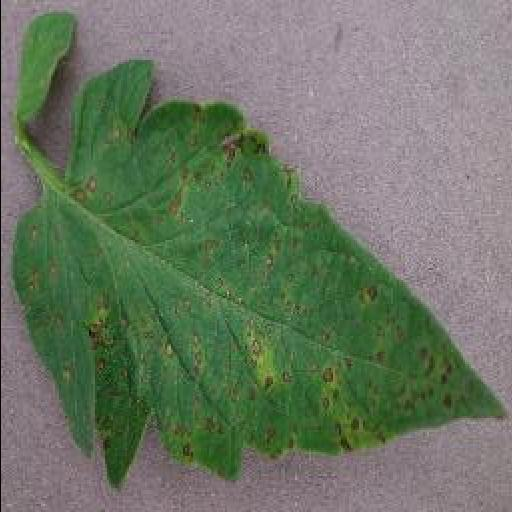disease_tomato: (11, 59, 505, 488)
